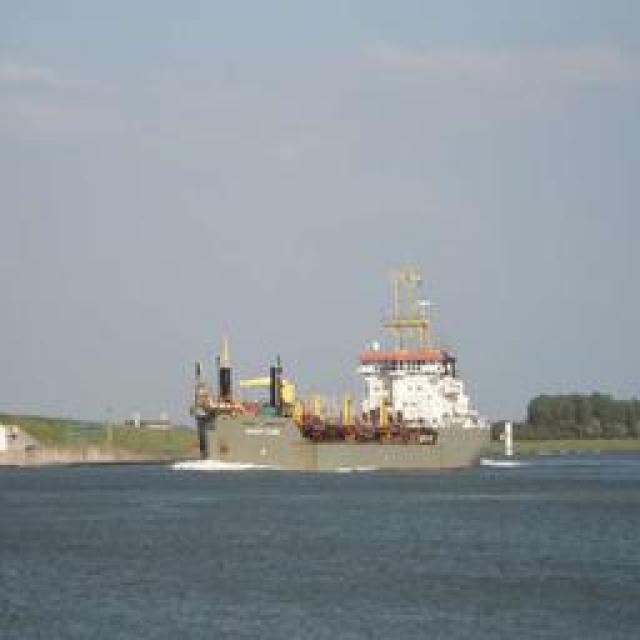ship2: (170, 261, 486, 475)
